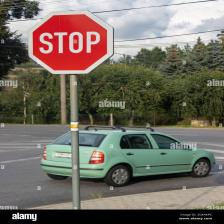Stop-sign: (23, 8, 125, 80)
